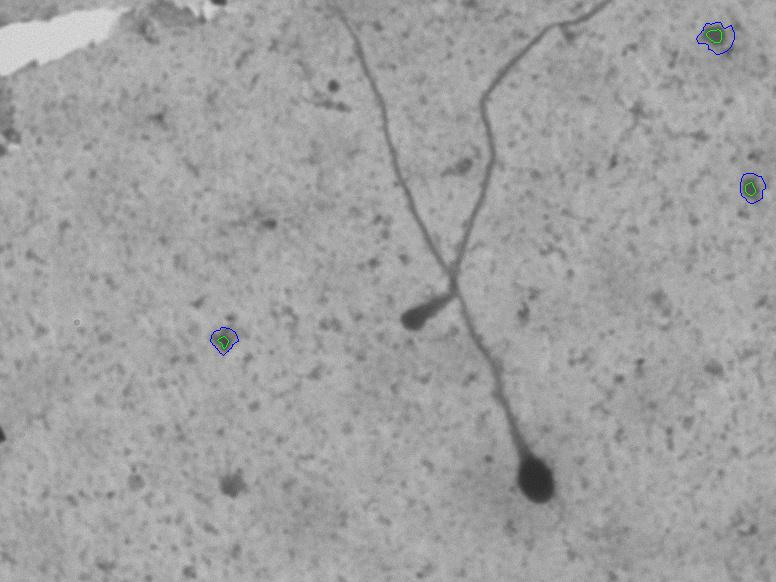Abnormal: (331, 17, 586, 526)
